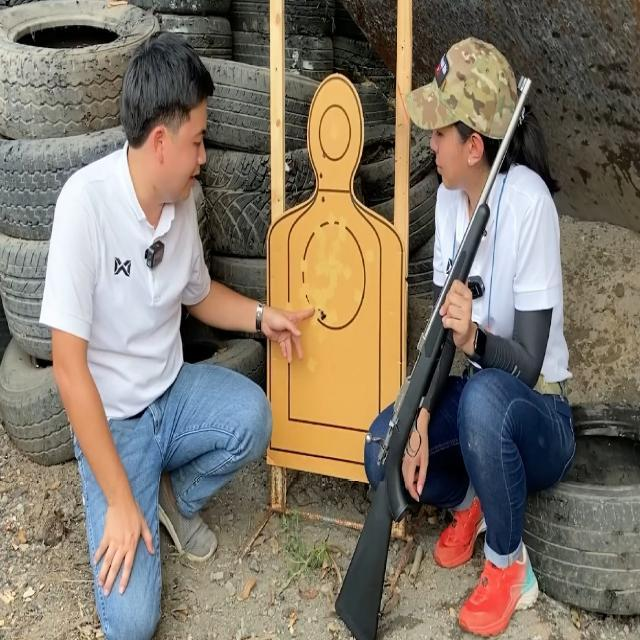rifle: (323, 70, 546, 638)
